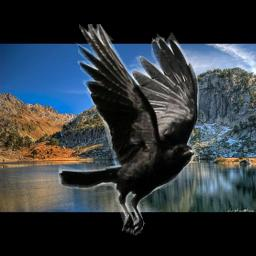Crow: (58, 24, 201, 239)
